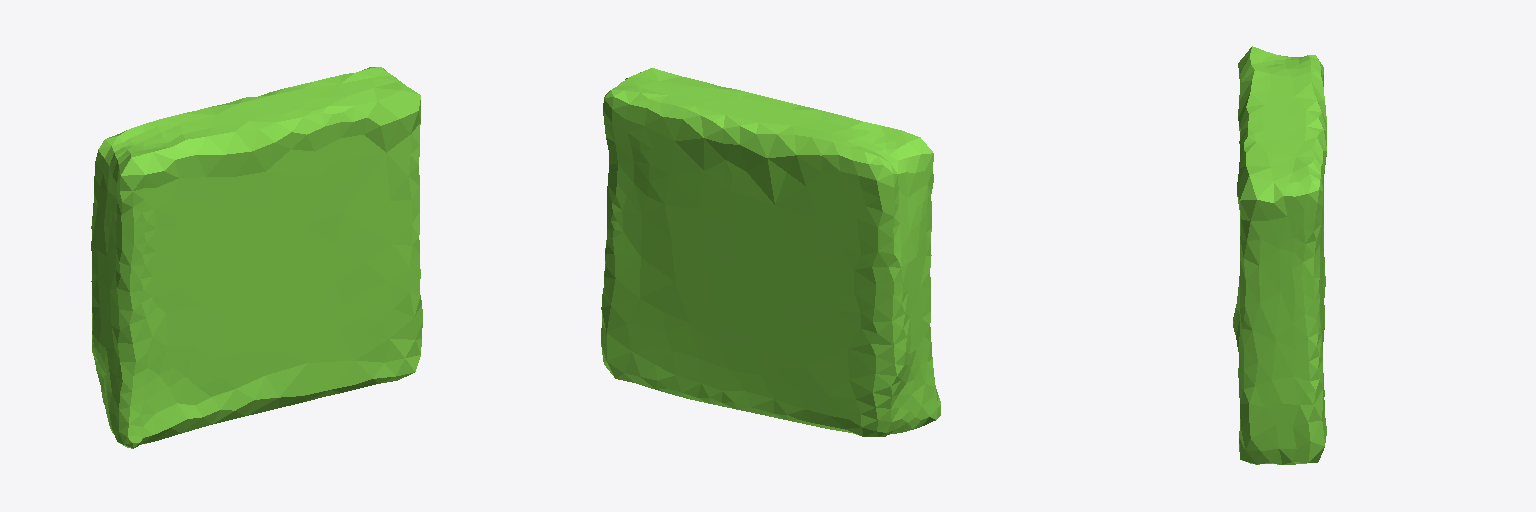
File: plataforma_2_1.obj
3 views of the same model, side by side, from view 1: azimuth 30°, elevation 25°; view 2: azimuth 150°, elevation 25°; view 3: azimuth 270°, elevation 25° (orthographic).
Parts seen in each view (by area): view 1: plataforma_2; view 2: plataforma_2; view 3: plataforma_2.
Part boxes in pixels (x1,y1,x2,y2): plataforma_2: (91,67,422,448); plataforma_2: (601,68,940,436); plataforma_2: (1233,46,1326,464).
Bounding box in the file's own units: 2.26 × 2.05 × 0.6026.